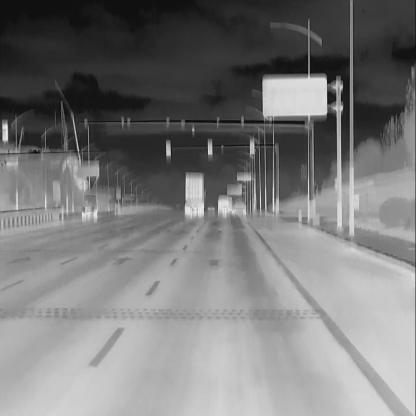car: (80, 194, 100, 217), (215, 192, 233, 216), (232, 196, 248, 218)
truck: (181, 169, 207, 220)
